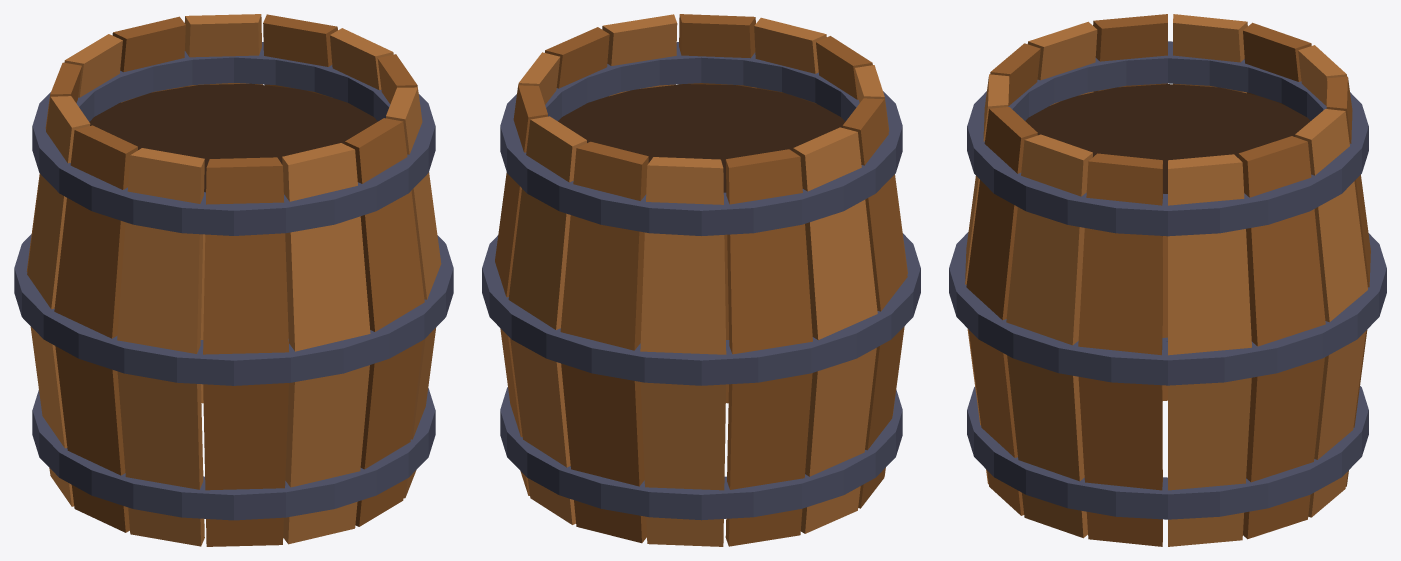
File: myw_shopbarrel.glb
The picture shows the model from 3 angles, left to right: view 1: azimuth 30°, elevation 25°; view 2: azimuth 150°, elevation 25°; view 3: azimuth 270°, elevation 25°; orthographic projection.
Visible parts, largest first — view 1: Staves, Hoops, Inside; view 2: Staves, Hoops, Inside; view 3: Staves, Hoops, Inside.
Part boxes in pixels (box(x1,y1,x2,y2)): Staves: box(26, 14, 441, 546); Hoops: box(14, 42, 453, 520); Inside: box(89, 83, 377, 192); Staves: box(495, 14, 907, 546); Hoops: box(482, 42, 920, 520); Inside: box(558, 84, 845, 192); Staves: box(965, 14, 1370, 546); Hoops: box(949, 41, 1386, 519); Inside: box(1025, 84, 1310, 193).
Bounding box in the file's own units: 2.52 × 2.4 × 2.52.
